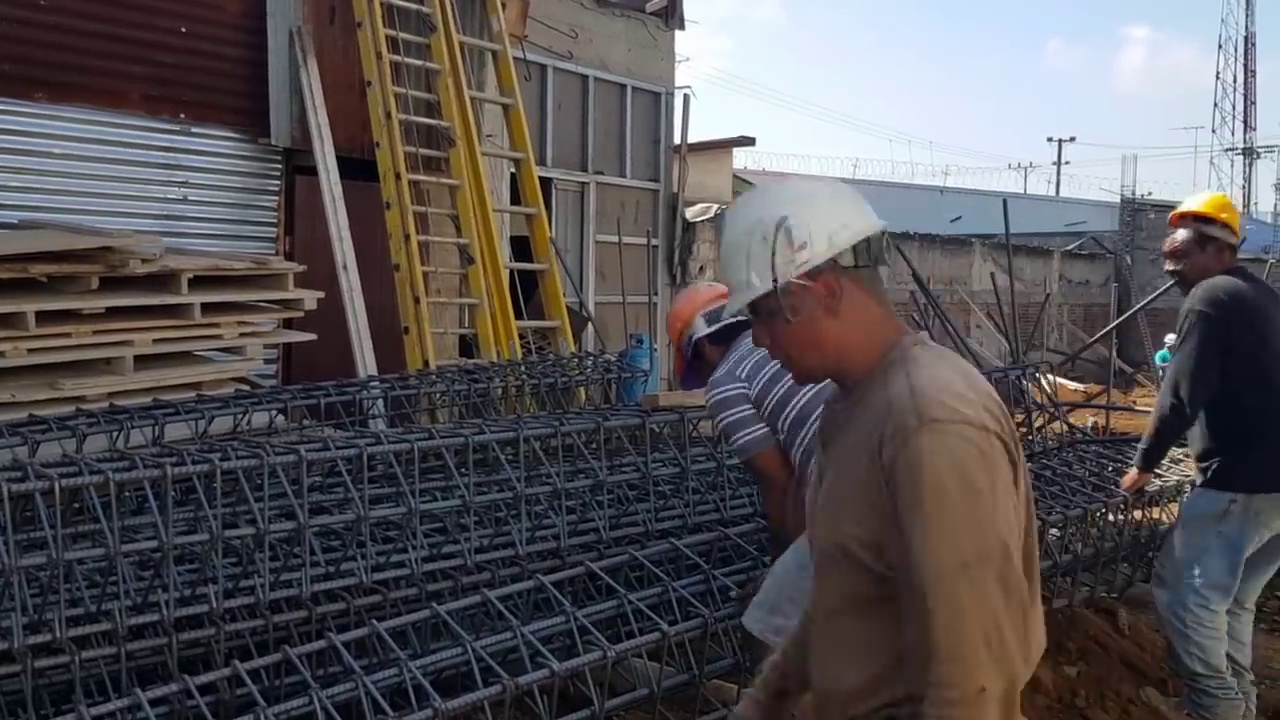helmet: (718, 184, 891, 325), (665, 283, 735, 372), (1168, 192, 1248, 239), (1164, 333, 1178, 345)
helmet-on: (721, 180, 924, 400), (666, 275, 758, 394), (1169, 191, 1247, 290), (1153, 332, 1178, 383), (1162, 332, 1178, 352)
person: (703, 183, 1066, 720), (1114, 191, 1280, 714), (667, 277, 833, 654)
